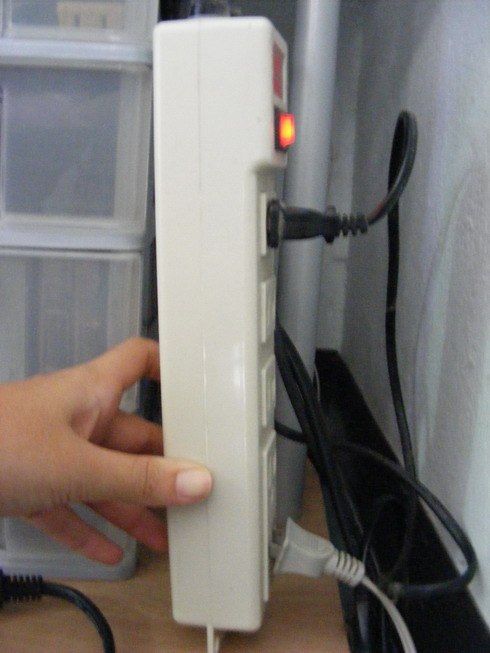Three_eye_plug: (137, 9, 301, 647)
